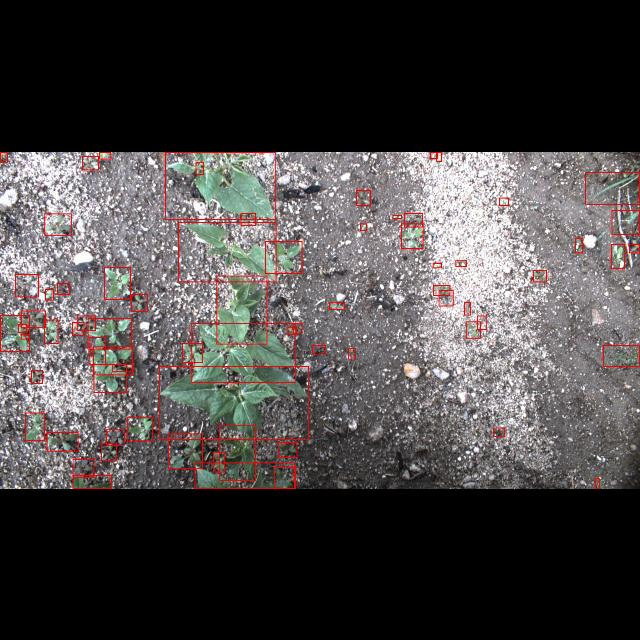crop: (160, 366, 308, 438), (165, 152, 275, 218), (192, 322, 294, 382), (178, 221, 276, 281), (217, 275, 267, 343), (194, 462, 294, 488), (220, 424, 256, 480)
weed: (585, 171, 639, 203), (88, 318, 132, 348), (168, 434, 202, 468), (266, 241, 302, 273), (94, 346, 132, 374), (1, 315, 30, 351), (94, 364, 126, 392), (104, 267, 130, 299), (603, 344, 639, 366), (612, 208, 640, 234), (46, 432, 78, 451), (128, 417, 152, 441), (401, 222, 423, 248), (45, 213, 71, 234), (26, 412, 44, 440), (16, 274, 38, 296), (72, 476, 111, 488), (274, 467, 296, 488), (90, 336, 106, 364), (21, 310, 45, 328), (73, 458, 94, 478), (182, 342, 202, 362), (44, 319, 58, 343), (278, 442, 298, 458), (612, 242, 624, 268), (77, 314, 95, 330), (132, 294, 148, 310), (106, 430, 124, 444), (405, 212, 423, 226), (102, 444, 116, 461), (82, 155, 98, 169), (466, 321, 480, 337), (439, 290, 453, 306), (213, 452, 224, 472), (356, 190, 370, 204), (240, 213, 256, 225), (111, 363, 132, 371), (434, 285, 450, 295), (72, 322, 84, 334), (57, 282, 69, 294), (312, 344, 326, 354), (477, 315, 487, 329), (533, 270, 547, 280), (32, 370, 42, 382), (292, 322, 302, 333), (196, 161, 204, 173), (494, 428, 504, 437), (330, 302, 344, 308), (576, 238, 582, 252), (45, 289, 53, 299), (348, 348, 356, 358), (499, 197, 509, 205), (629, 244, 639, 252), (464, 302, 470, 314), (1, 151, 8, 161), (18, 324, 26, 332), (288, 326, 296, 334), (100, 152, 110, 158), (432, 262, 442, 268), (456, 260, 466, 266), (360, 222, 366, 230), (430, 151, 438, 157), (436, 152, 442, 160), (595, 478, 599, 488), (21, 334, 29, 338), (392, 215, 402, 218)
